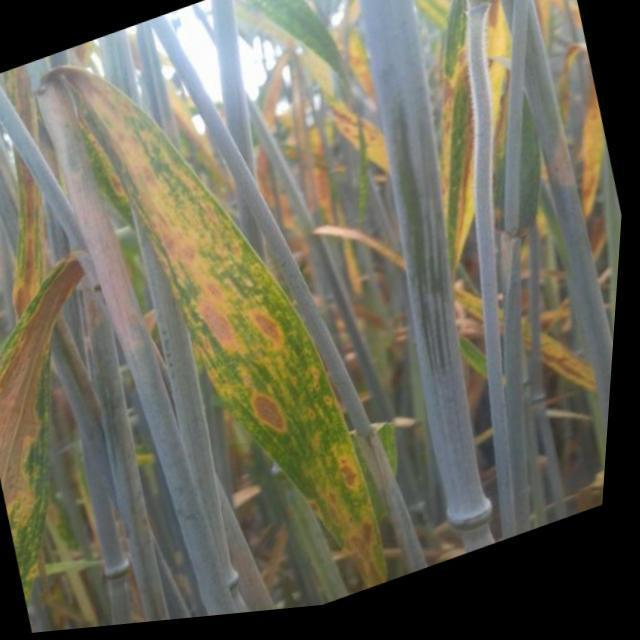Septoria: (41, 67, 396, 598)
